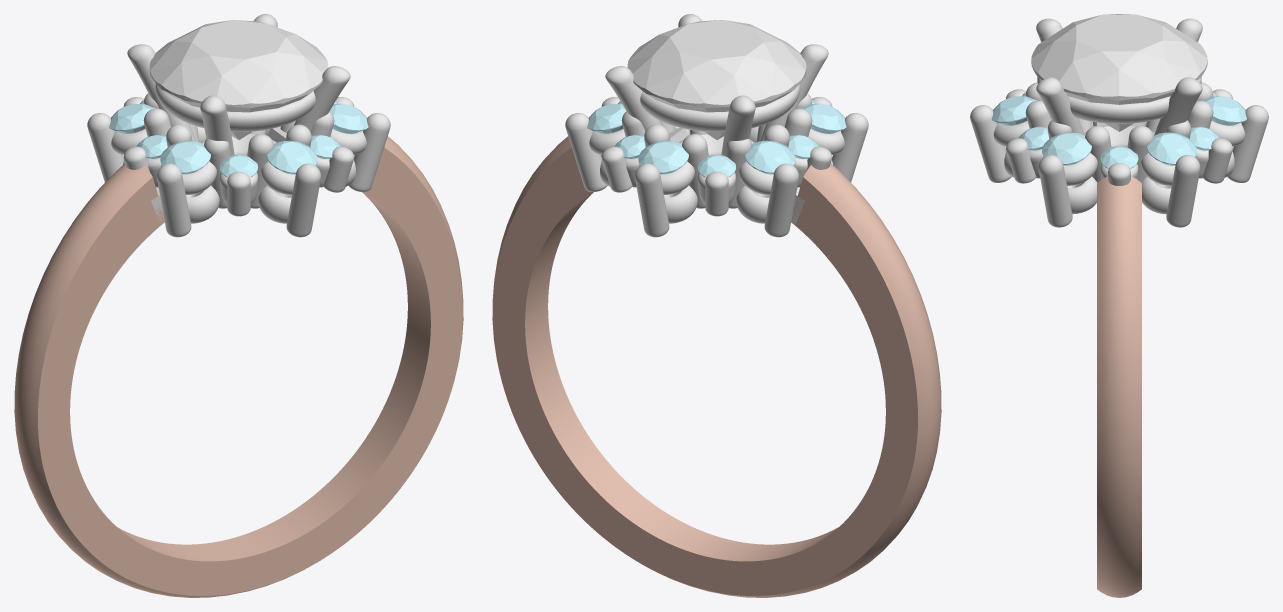
The model's file is NoahPTRGeng_blender.glb.
3 renders of one model, left to right at view 1: azimuth 30°, elevation 25°; view 2: azimuth 150°, elevation 25°; view 3: azimuth 270°, elevation 25°, orthographic.
Parts seen in each view (by area): view 1: Noah RG for 3d model, Noah PT for 3d model, Noah dia for 3d model, Noah aqua for 3d model - for model only.006, Noah aqua for 3d model - for model only.011, Noah aqua for 3d model - for model only.007, Noah aqua for 3d model - for model only.010, Noah aqua for 3d model - for model only.005; view 2: Noah RG for 3d model, Noah PT for 3d model, Noah dia for 3d model, Noah aqua for 3d model - for model only.007, Noah aqua for 3d model - for model only.008, Noah aqua for 3d model - for model only.006, Noah aqua for 3d model - for model only.009, Noah aqua for 3d model - for model only.001; view 3: Noah PT for 3d model, Noah RG for 3d model, Noah dia for 3d model, Noah aqua for 3d model - for model only.009, Noah aqua for 3d model - for model only.010, Noah aqua for 3d model - for model only.008, Noah aqua for 3d model - for model only.011, Noah aqua for 3d model - for model only.003, Noah aqua for 3d model - for model only.002, Noah aqua for 3d model - for model only.004.
Part boxes in pixels (x1,y1,x2,y2): Noah RG for 3d model: (14, 136, 463, 597); Noah PT for 3d model: (87, 14, 390, 237); Noah dia for 3d model: (149, 20, 328, 139); Noah aqua for 3d model - for model only.006: (160, 140, 210, 174); Noah aqua for 3d model - for model only.011: (267, 140, 317, 174); Noah aqua for 3d model - for model only.007: (109, 104, 155, 133); Noah aqua for 3d model - for model only.010: (329, 104, 368, 133); Noah aqua for 3d model - for model only.005: (219, 154, 258, 177); Noah RG for 3d model: (492, 136, 941, 597); Noah PT for 3d model: (565, 14, 868, 237); Noah dia for 3d model: (627, 20, 806, 139); Noah aqua for 3d model - for model only.007: (745, 140, 795, 174); Noah aqua for 3d model - for model only.008: (638, 140, 688, 174); Noah aqua for 3d model - for model only.006: (800, 104, 846, 133); Noah aqua for 3d model - for model only.009: (587, 104, 626, 133); Noah aqua for 3d model - for model only.001: (697, 154, 736, 177); Noah PT for 3d model: (970, 18, 1268, 227); Noah RG for 3d model: (1097, 176, 1141, 597); Noah dia for 3d model: (1031, 14, 1207, 131); Noah aqua for 3d model - for model only.009: (1147, 132, 1196, 165); Noah aqua for 3d model - for model only.010: (1042, 132, 1091, 165); Noah aqua for 3d model - for model only.008: (1202, 96, 1247, 125); Noah aqua for 3d model - for model only.011: (991, 96, 1036, 125); Noah aqua for 3d model - for model only.003: (1100, 146, 1138, 168); Noah aqua for 3d model - for model only.002: (1190, 126, 1219, 150); Noah aqua for 3d model - for model only.004: (1019, 126, 1048, 150).
Size of the model in its own units: 19.89 by 23.74 by 11.87.
